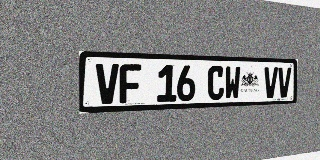1: (157, 65, 177, 102)
6: (177, 65, 196, 101)
C: (207, 66, 224, 100)
F: (120, 64, 141, 103)
V: (96, 63, 119, 104), (264, 67, 278, 98), (277, 67, 291, 98)
W: (224, 66, 241, 100)
